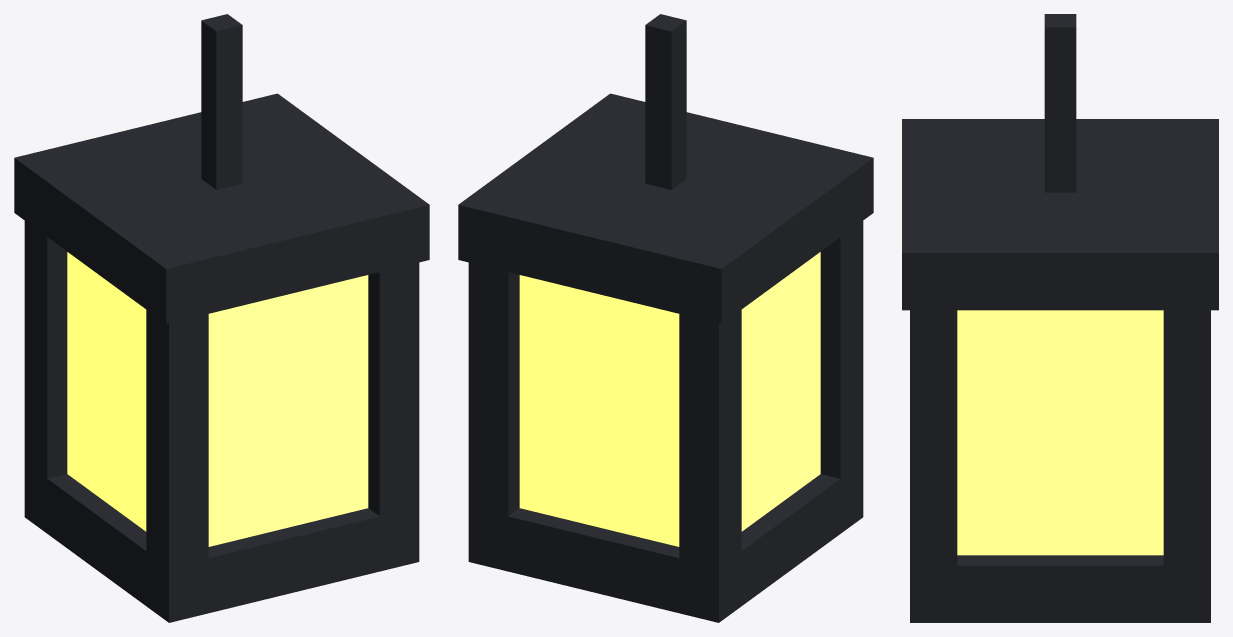
Rendered from nt-hanging-lantern.glb.
The picture shows the model from 3 angles, left to right: view 1: azimuth 30°, elevation 25°; view 2: azimuth 150°, elevation 25°; view 3: azimuth 270°, elevation 25°; orthographic projection. The views are drawn at different scales.
Visible parts, largest first — view 1: box-prop; view 2: box-prop; view 3: box-prop.
Part boxes in pixels (<box>): box-prop: <box>14,14,429,622</box>; box-prop: <box>458,14,873,622</box>; box-prop: <box>902,14,1218,622</box>.
Size of the model in its own units: 0.4 by 0.75 by 0.4.
